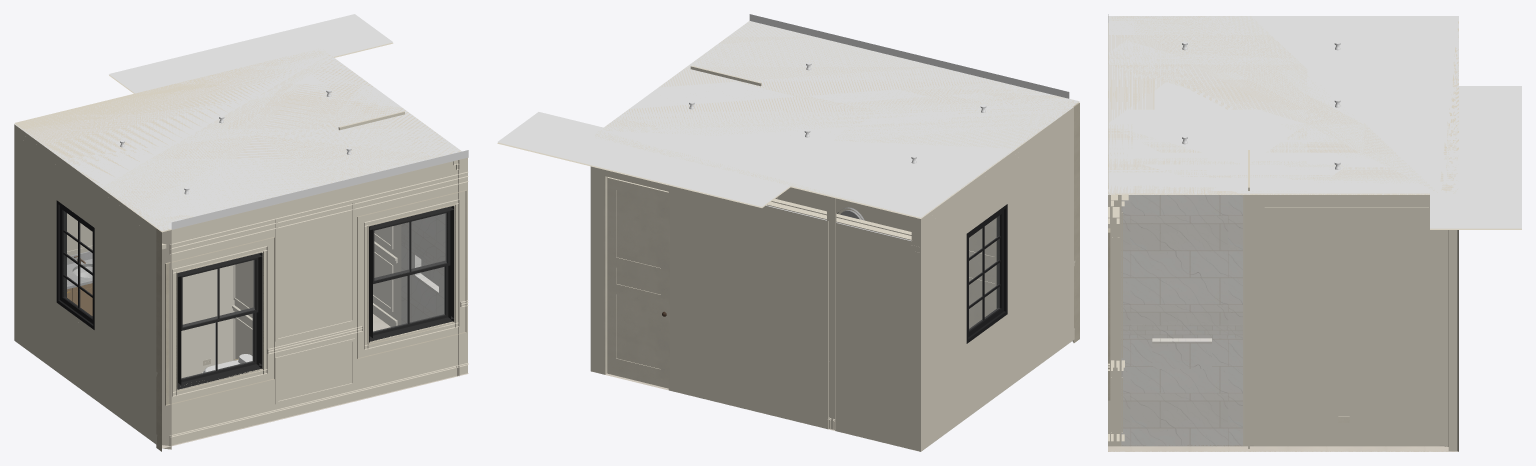
The model's file is primary-bath-d8a1b63bca42.glb.
3 views of the same model, side by side, from view 1: azimuth 30°, elevation 25°; view 2: azimuth 150°, elevation 25°; view 3: azimuth 270°, elevation 25° (orthographic). The views are drawn at different scales.
Visible parts, largest first — view 1: primary-bath-9d91b47435c6fb33, primary-bath-b0ade14315e4f1c3, primary-bath-c51ecd664a3b22a3, primary-bath-e8793759323e04f0, primary-bath-60f0db96f832035a, primary-bath-b5cb73c07919def8, primary-bath-look-9d91b47435c6fb33, primary-bath-10eba734bfa580f9, primary-bath-20932135983111ad, primary-bath-ef64d5096d209f6d, primary-bath-b5339e4b2b15762b, primary-bath-62353aa10fc57f23 (+12 smaller); view 2: primary-bath-9ecc0d558be1c706, primary-bath-9d91b47435c6fb33, primary-bath-c51ecd664a3b22a3, primary-bath-e8793759323e04f0, primary-bath-18f70a4a9eda5dac, primary-bath-look-9d91b47435c6fb33, primary-bath-20932135983111ad, primary-bath-25ea03c5717987c5, primary-bath-e48b5483df8cacdb, primary-bath-b88ac105ef7c3bdb, primary-bath-62353aa10fc57f23, primary-bath-1a6c50e4c3accb7b (+2 smaller); view 3: primary-bath-9d91b47435c6fb33, primary-bath-fc6585fecfaf7ec3, primary-bath-e8793759323e04f0, primary-bath-3d8660a29b1e398e, primary-bath-2bc0761cc32b9613, primary-bath-look-9d91b47435c6fb33, primary-bath-c791a0f218fead78, primary-bath-9ecc0d558be1c706, primary-bath-343da8f45fc39332, primary-bath-b3921aced1f99593, primary-bath-b3dc771ed6f89851, primary-bath-38b306e83be12a4b (+8 smaller).
Part boxes in pixels (bbox=[...]): primary-bath-9d91b47435c6fb33: bbox=[18, 48, 468, 232]; primary-bath-b0ade14315e4f1c3: bbox=[171, 157, 467, 434]; primary-bath-c51ecd664a3b22a3: bbox=[14, 124, 156, 444]; primary-bath-e8793759323e04f0: bbox=[14, 51, 468, 229]; primary-bath-60f0db96f832035a: bbox=[177, 252, 262, 389]; primary-bath-b5cb73c07919def8: bbox=[369, 206, 454, 342]; primary-bath-look-9d91b47435c6fb33: bbox=[109, 14, 393, 93]; primary-bath-10eba734bfa580f9: bbox=[184, 265, 234, 377]; primary-bath-20932135983111ad: bbox=[56, 200, 94, 329]; primary-bath-ef64d5096d209f6d: bbox=[169, 363, 468, 445]; primary-bath-b5339e4b2b15762b: bbox=[169, 171, 468, 254]; primary-bath-62353aa10fc57f23: bbox=[156, 228, 171, 451]; primary-bath-9ecc0d558be1c706: bbox=[590, 166, 919, 451]; primary-bath-9d91b47435c6fb33: bbox=[591, 21, 1079, 218]; primary-bath-c51ecd664a3b22a3: bbox=[911, 107, 1073, 451]; primary-bath-e8793759323e04f0: bbox=[595, 14, 1077, 210]; primary-bath-18f70a4a9eda5dac: bbox=[607, 177, 668, 388]; primary-bath-look-9d91b47435c6fb33: bbox=[497, 112, 790, 207]; primary-bath-20932135983111ad: bbox=[966, 204, 1007, 343]; primary-bath-25ea03c5717987c5: bbox=[969, 218, 996, 328]; primary-bath-e48b5483df8cacdb: bbox=[827, 196, 836, 430]; primary-bath-b88ac105ef7c3bdb: bbox=[603, 174, 669, 390]; primary-bath-62353aa10fc57f23: bbox=[1072, 103, 1079, 342]; primary-bath-1a6c50e4c3accb7b: bbox=[777, 187, 879, 224]; primary-bath-9d91b47435c6fb33: bbox=[1108, 16, 1458, 194]; primary-bath-fc6585fecfaf7ec3: bbox=[1248, 193, 1458, 451]; primary-bath-e8793759323e04f0: bbox=[1108, 14, 1458, 193]; primary-bath-3d8660a29b1e398e: bbox=[1121, 195, 1242, 324]; primary-bath-2bc0761cc32b9613: bbox=[1121, 338, 1242, 446]; primary-bath-look-9d91b47435c6fb33: bbox=[1430, 86, 1521, 229]; primary-bath-c791a0f218fead78: bbox=[1108, 189, 1247, 451]; primary-bath-9ecc0d558be1c706: bbox=[1447, 230, 1458, 451]; primary-bath-343da8f45fc39332: bbox=[1253, 434, 1439, 446]; primary-bath-b3921aced1f99593: bbox=[1108, 446, 1457, 451]; primary-bath-b3dc771ed6f89851: bbox=[1264, 207, 1428, 352]; primary-bath-38b306e83be12a4b: bbox=[1121, 324, 1242, 338].
Size of the model in its own units: 5.14 by 3.04 by 4.23.
32 materials, 8 textured.
